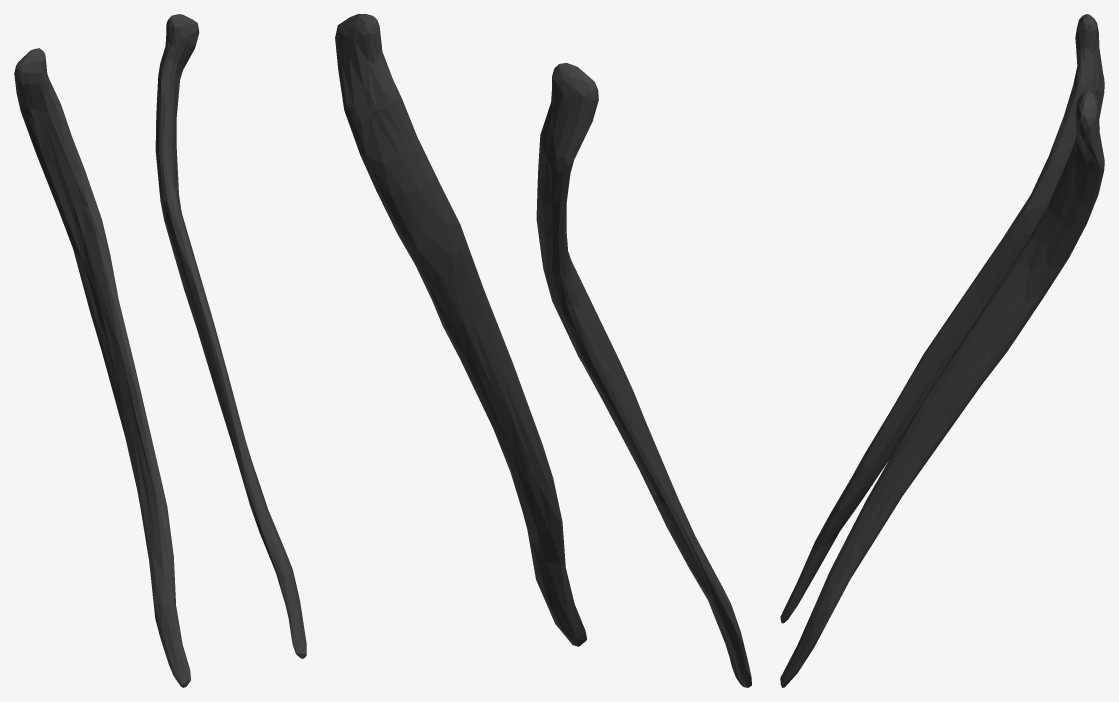
The model's file is m_cleidocephalicus_pars_mastoideus.glb.
The picture shows the model from 3 angles, left to right: view 1: azimuth 30°, elevation 25°; view 2: azimuth 150°, elevation 25°; view 3: azimuth 270°, elevation 25°; orthographic projection. The views are drawn at different scales.
Visible parts, largest first — view 1: m_cleidocephalicus_pars_mastoideus; view 2: m_cleidocephalicus_pars_mastoideus; view 3: m_cleidocephalicus_pars_mastoideus.
Boxes of the visible parts, x1,y1,x2,y2 form: m_cleidocephalicus_pars_mastoideus: (14,14,306,687); m_cleidocephalicus_pars_mastoideus: (335,14,751,687); m_cleidocephalicus_pars_mastoideus: (780,14,1104,687).
Size of the model in its own units: 0.00235 by 0.00667 by 0.00326.
Materials: 1 (1 with a texture image).
